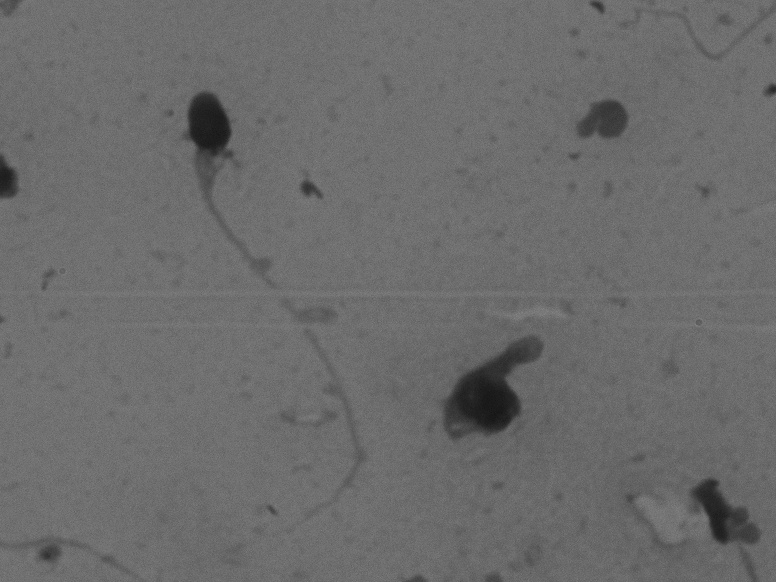Abnormal: (148, 78, 396, 556), (425, 283, 584, 470)
